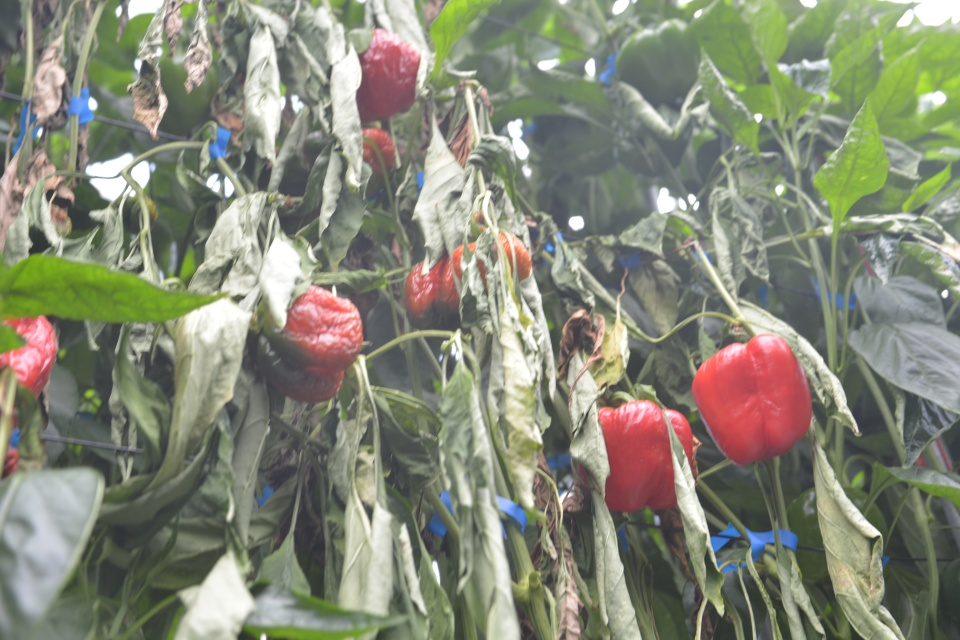fruit: (690, 332, 813, 465), (576, 398, 694, 514), (254, 283, 364, 404), (612, 16, 700, 109), (356, 25, 421, 123), (451, 224, 532, 294), (0, 313, 58, 402), (402, 254, 466, 331), (362, 126, 397, 201)
